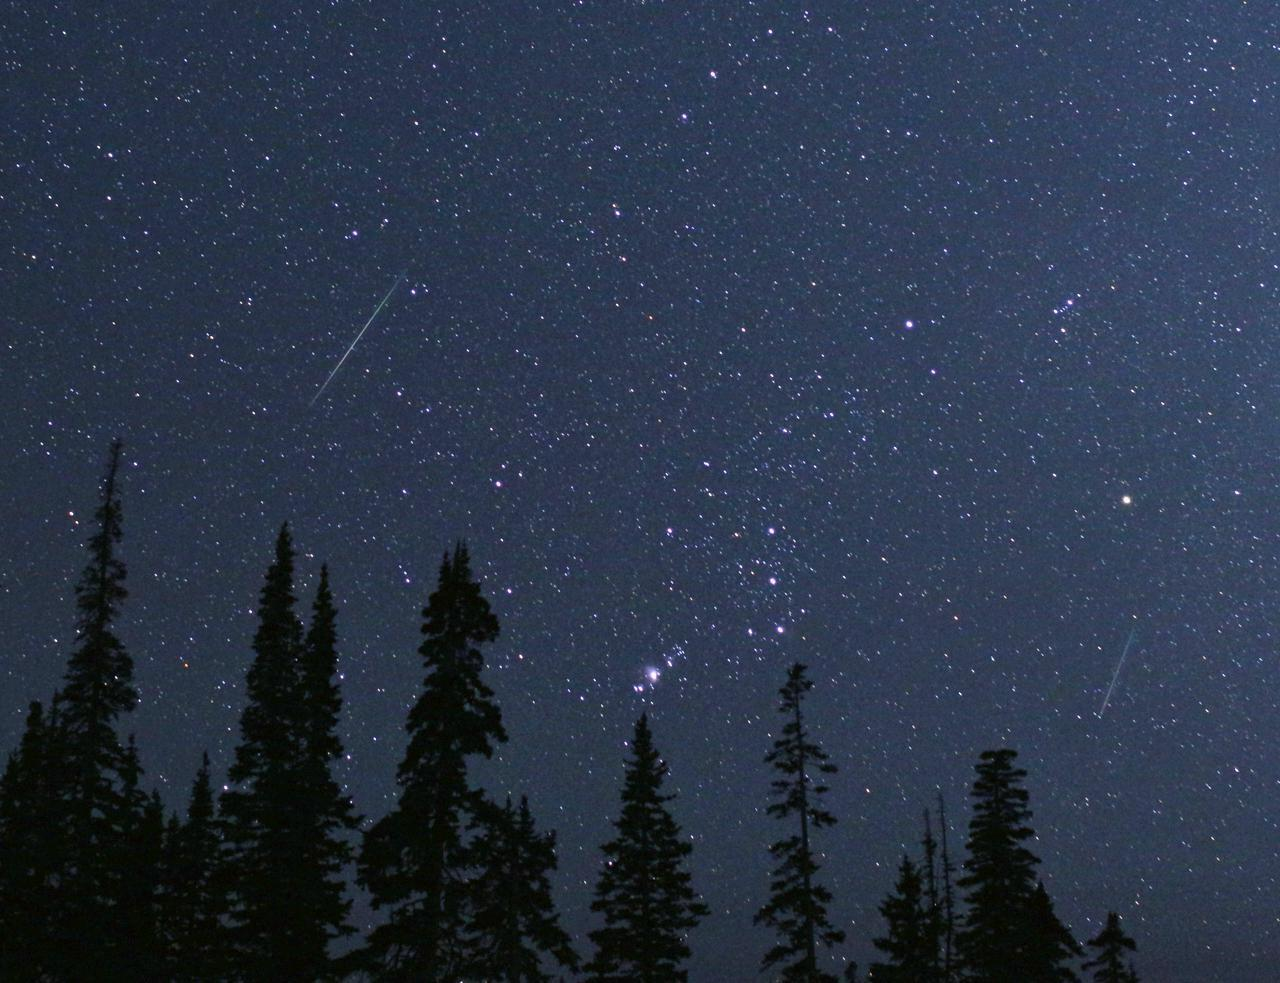meteorite: (301, 272, 407, 414), (1084, 628, 1145, 723)
